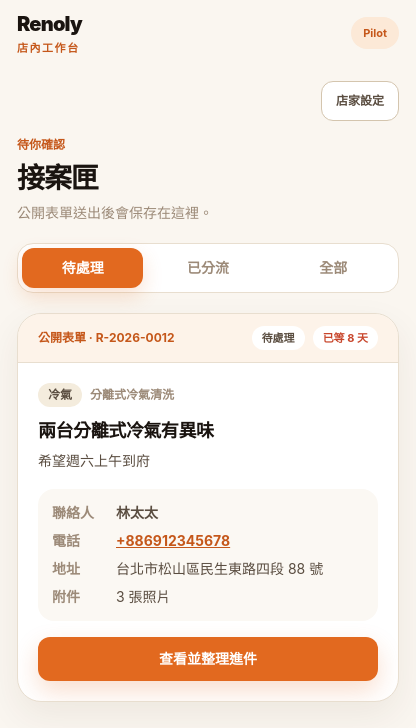
Test: PilotInbox › switches tabs and refetches with the tab status filter
The width and height of the screenshot is (416, 728).
Expected: the heading "接案匣" is shown, [17,160,98,194]
Click the tab "已分流" at {"x": 208, "y": 268}, box [147,248,269,288]
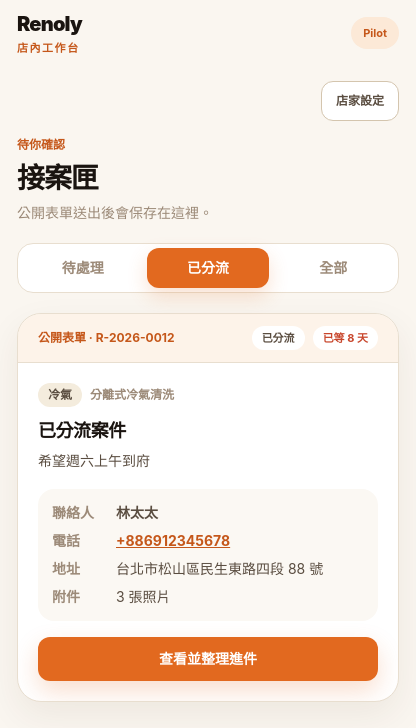
Expected: the heading "已分流案件" is shown, [38,420,126,441]
